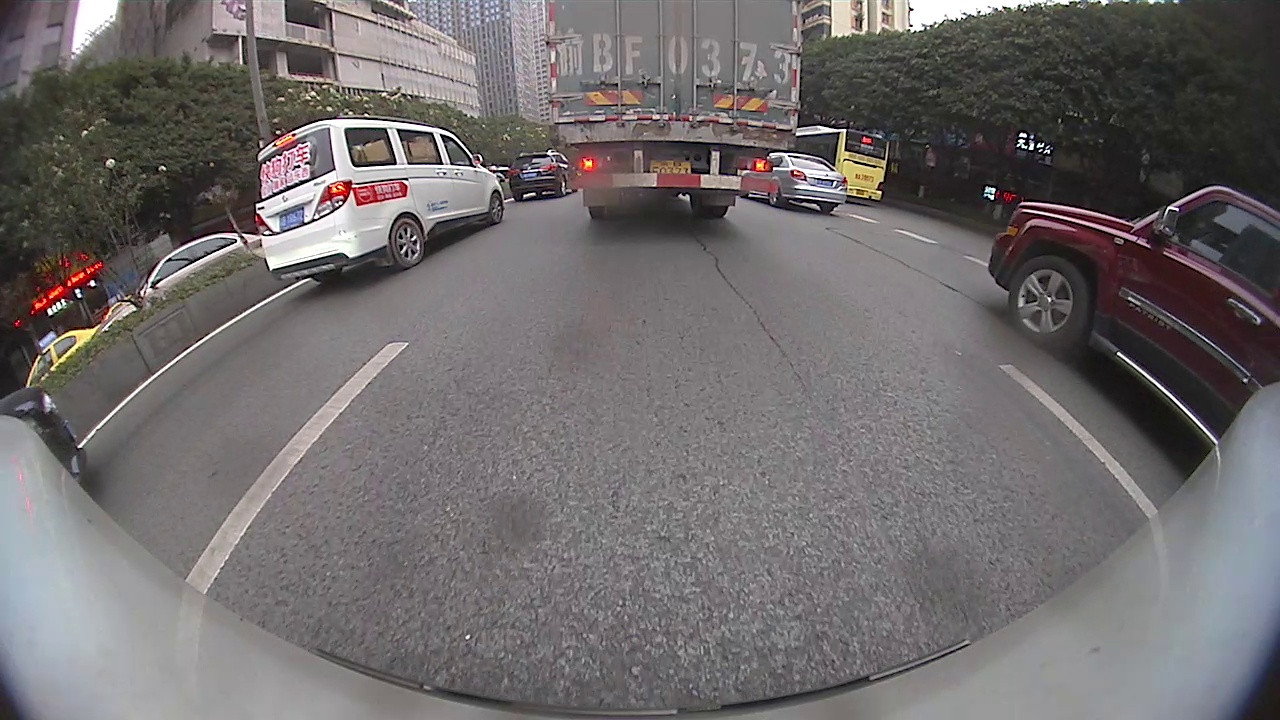bus: (793, 124, 893, 200)
car: (986, 185, 1278, 444), (253, 113, 507, 282), (131, 229, 262, 305), (1, 389, 88, 482), (739, 152, 848, 216), (20, 328, 100, 389), (507, 148, 578, 202)
front: (1005, 256, 1091, 350), (486, 191, 505, 226)
rear: (388, 217, 427, 271), (766, 184, 785, 208)
truck: (544, 0, 801, 219)
